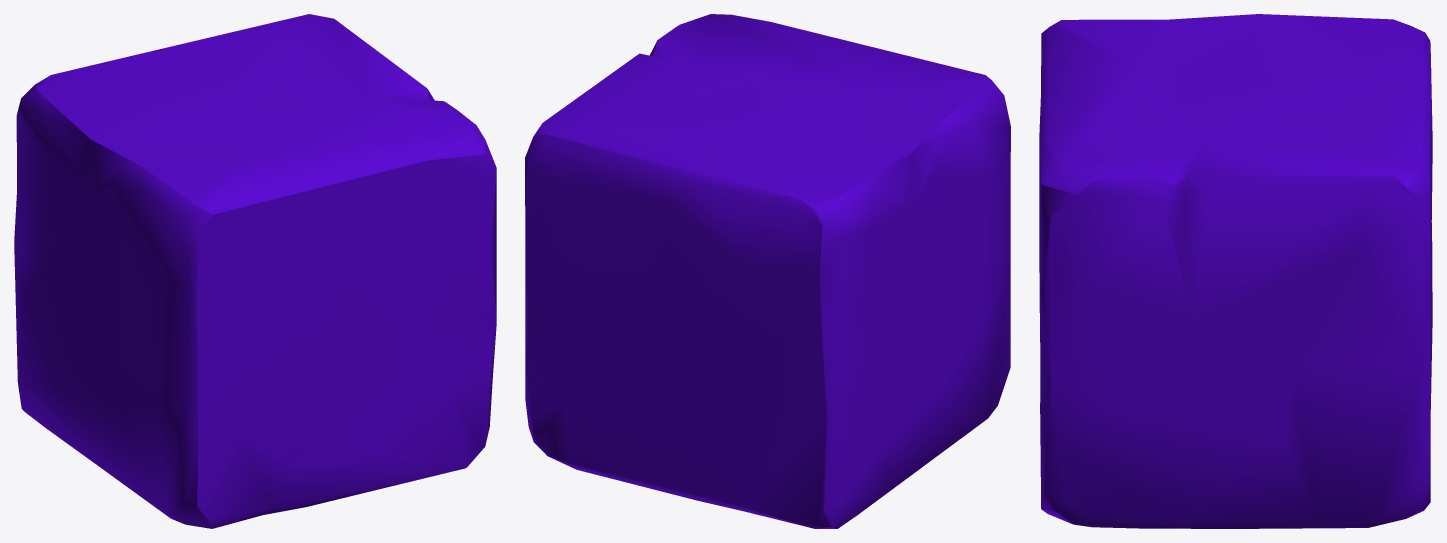
The model's file is cube_stone02.fbx.
The picture shows the model from 3 angles, left to right: view 1: azimuth 30°, elevation 25°; view 2: azimuth 150°, elevation 25°; view 3: azimuth 270°, elevation 25°; orthographic projection. The views are drawn at different scales.
Visible parts, largest first — view 1: cube_stone02; view 2: cube_stone02; view 3: cube_stone02.
Part boxes in pixels (left/top/right/bottom): cube_stone02: left=14, top=14, right=496, bottom=528; cube_stone02: left=525, top=14, right=1010, bottom=528; cube_stone02: left=1039, top=14, right=1432, bottom=528.
Size of the model in its own units: 1.33 by 1.33 by 1.33.
